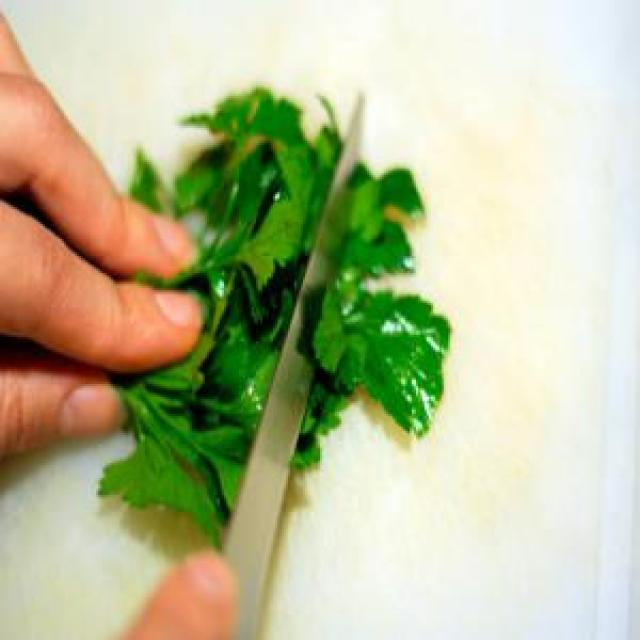knife: (222, 85, 371, 638)
